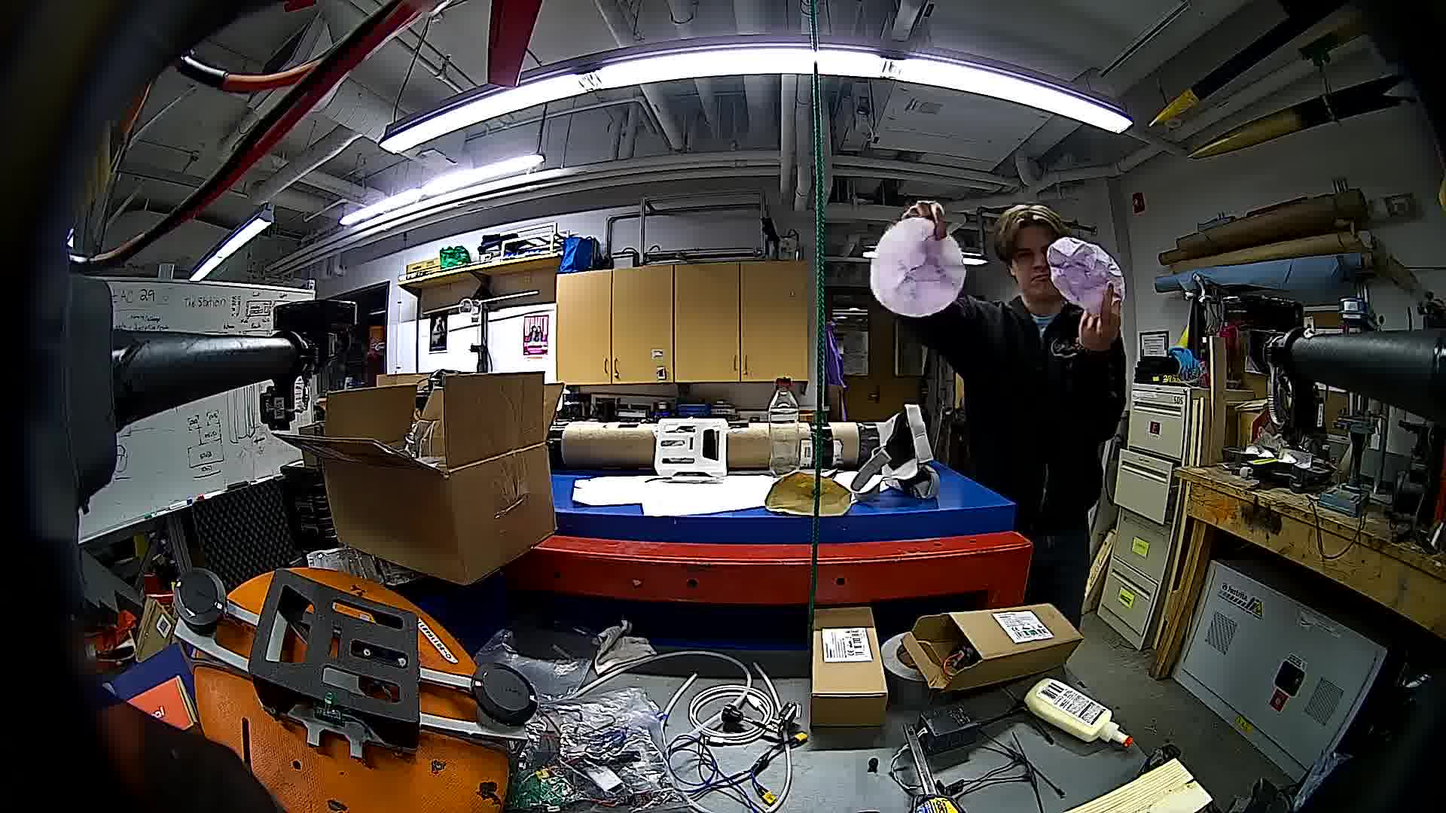Target: (865, 215, 971, 321)
